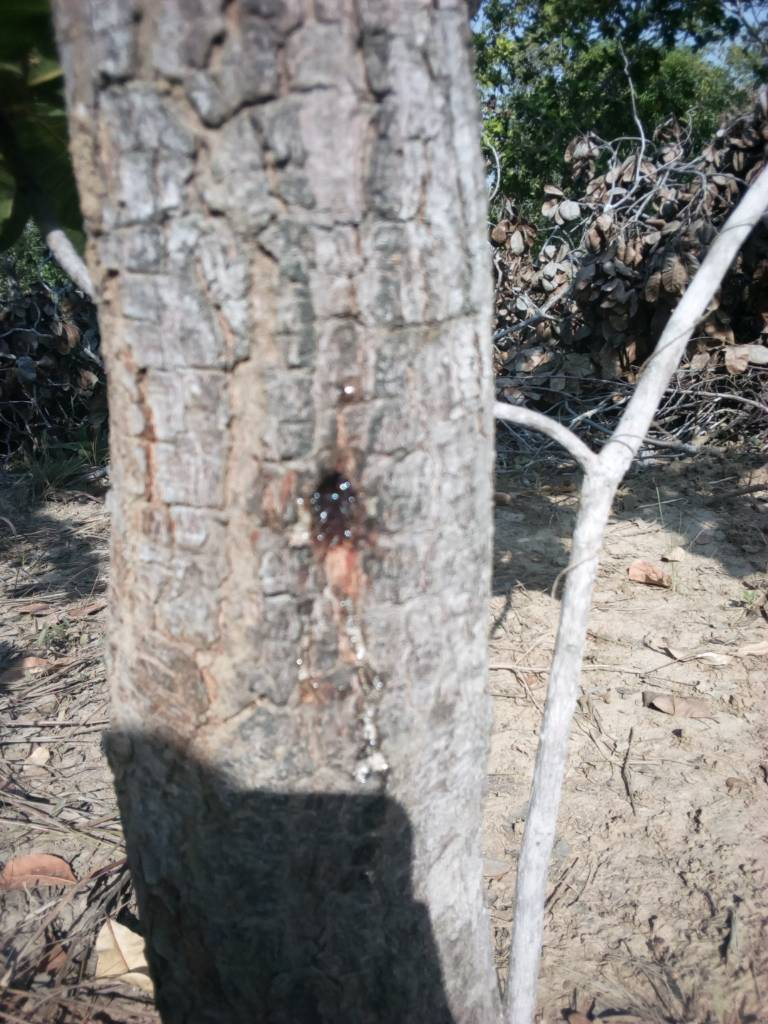Apate terebrans: (262, 440, 437, 583)
